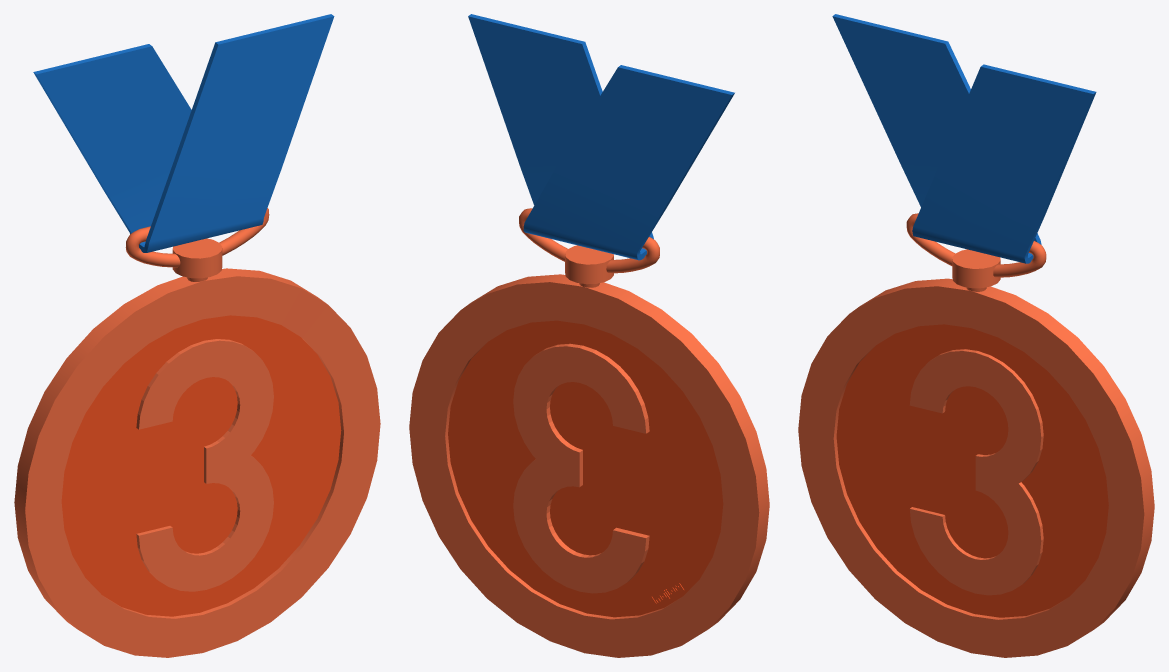
File: 3rd_place_medal.fbx
3 renders of one model, left to right at view 1: azimuth 30°, elevation 25°; view 2: azimuth 150°, elevation 25°; view 3: azimuth 330°, elevation 25°, orthographic. The views are drawn at different scales.
Visible parts, largest first — view 1: Circle.2517; view 2: Circle.2517; view 3: Circle.2517.
Part boxes in pixels (<box>): Circle.2517: <box>14,14,380,657</box>; Circle.2517: <box>409,14,769,657</box>; Circle.2517: <box>798,14,1154,657</box>.
Size of the model in its own units: 140 by 229 by 17.11.
Materials: 1 (1 with a texture image).
